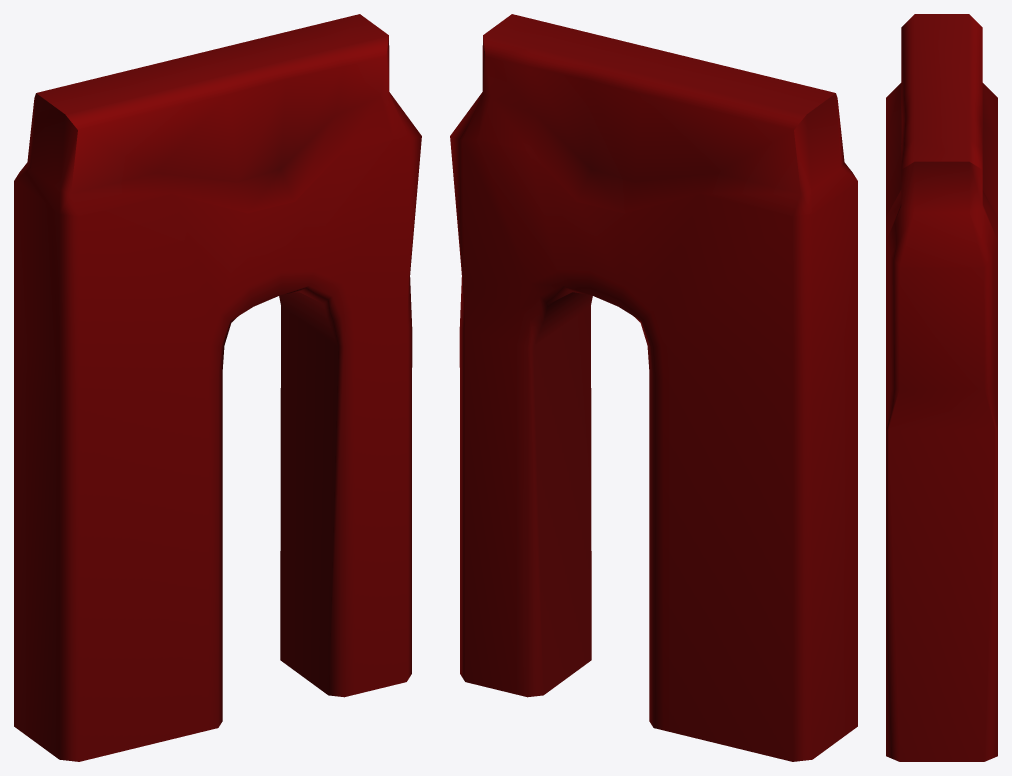
The model's file is buildings-ruins-cathedralruins_v4.fbx.
3 renders of one model, left to right at view 1: azimuth 30°, elevation 25°; view 2: azimuth 150°, elevation 25°; view 3: azimuth 270°, elevation 25°, orthographic. The views are drawn at different scales.
Visible parts, largest first — view 1: CathedralRuins_v4; view 2: CathedralRuins_v4; view 3: CathedralRuins_v4.
Part boxes in pixels (<box>): CathedralRuins_v4: <box>14,14,421,761</box>; CathedralRuins_v4: <box>450,14,857,761</box>; CathedralRuins_v4: <box>886,14,997,761</box>.
Size of the model in its own units: 5.94 by 9.96 by 1.7.
